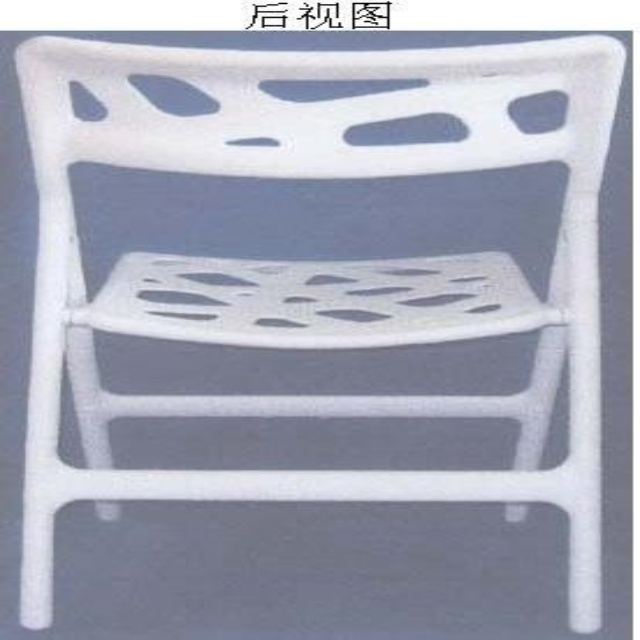obstacle: (16, 35, 621, 632)
